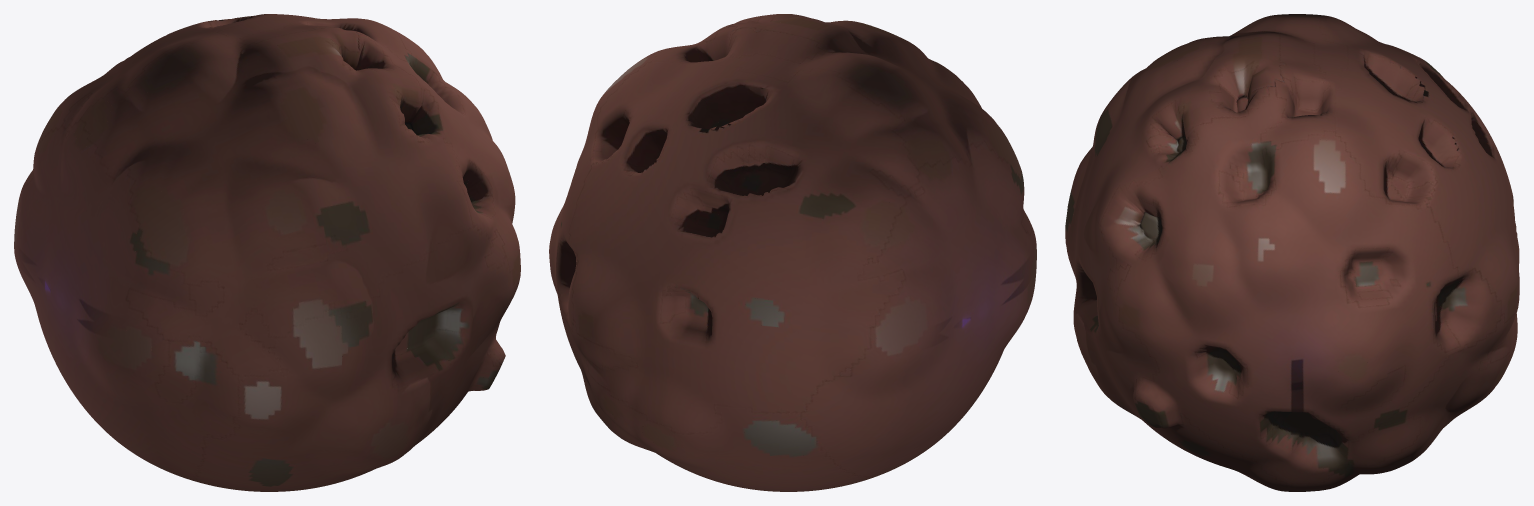
Rendered from asteroid1.glb.
The picture shows the model from 3 angles, left to right: view 1: azimuth 30°, elevation 25°; view 2: azimuth 150°, elevation 25°; view 3: azimuth 270°, elevation 25°; orthographic projection. The views are drawn at different scales.
Visible parts, largest first — view 1: Cube; view 2: Cube; view 3: Cube.
Boxes of the visible parts, x1,y1,x2,y2 form: Cube: (14,14,520,491); Cube: (549,14,1036,491); Cube: (1065,14,1519,491).
Size of the model in its own units: 1.74 by 1.72 by 1.72.
Materials: 3 (3 with a texture image).
